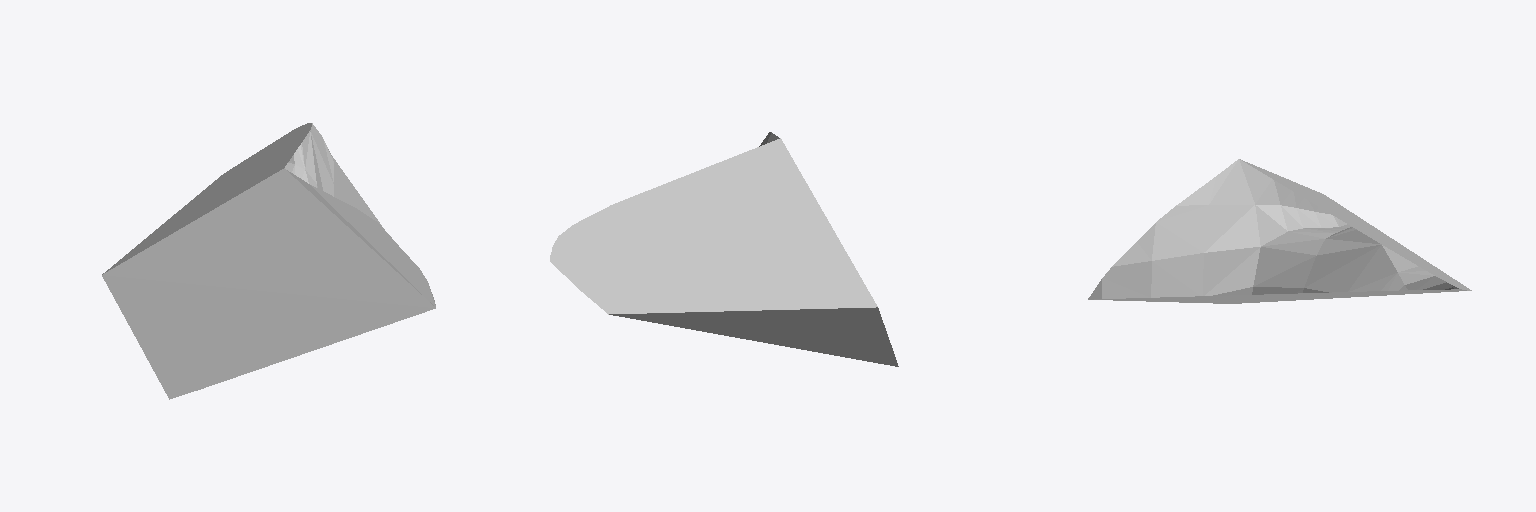
File: FracturePartFracture_007.obj
The picture shows the model from 3 angles: view 1: azimuth 30°, elevation 25°; view 2: azimuth 150°, elevation 25°; view 3: azimuth 270°, elevation 25°; orthographic projection.
Visible parts, largest first — view 1: Fracture.007; view 2: Fracture.007; view 3: Fracture.007.
Part boxes in pixels (x1,y1,x2,y2): Fracture.007: (102,123,435,399); Fracture.007: (550,132,898,366); Fracture.007: (1088,159,1471,303).
Bounding box in the file's own units: 1.22 × 0.8921 × 1.54.